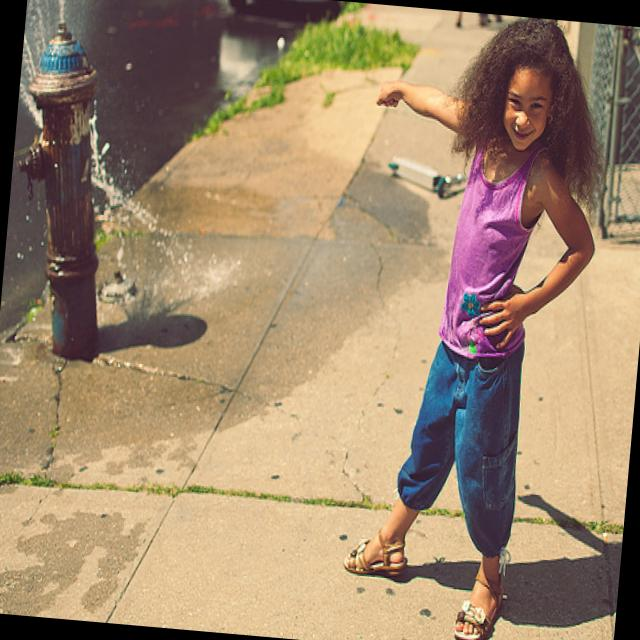Vehicle: (216, 0, 380, 29)
